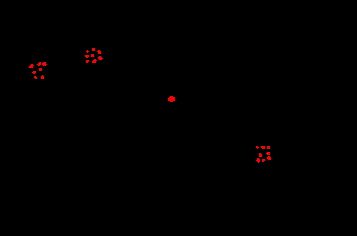Target: (168, 96, 175, 102), (98, 56, 103, 60), (92, 59, 97, 63), (42, 62, 47, 66), (29, 64, 34, 68), (256, 158, 260, 163), (97, 50, 101, 54), (37, 62, 41, 66), (267, 156, 271, 160), (85, 55, 89, 58), (32, 71, 36, 74), (41, 75, 44, 79), (261, 146, 265, 149), (266, 152, 270, 155), (259, 153, 262, 157), (92, 48, 95, 51), (86, 50, 89, 53), (91, 54, 94, 57), (86, 60, 89, 63), (39, 68, 42, 71), (34, 76, 37, 79), (256, 146, 259, 149), (267, 146, 270, 149), (262, 159, 265, 162)
